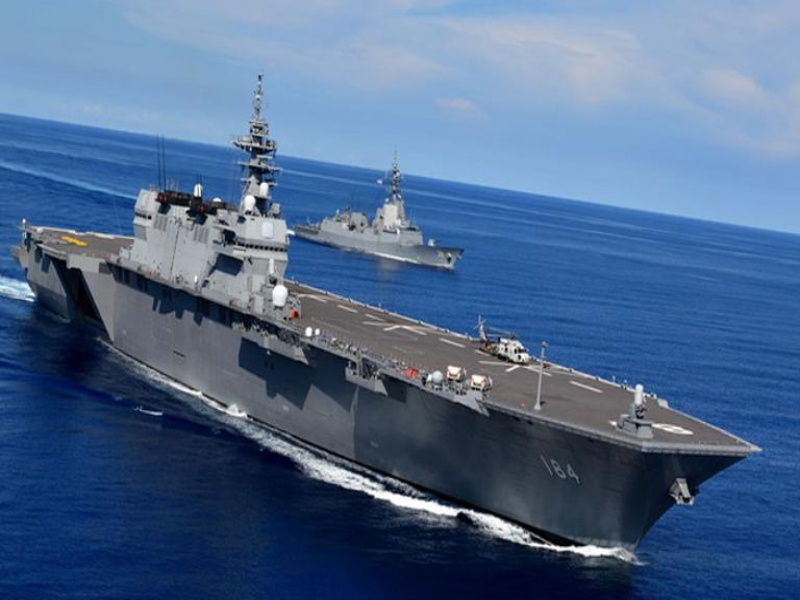carrier: (41, 145, 738, 567)
cruise: (305, 157, 474, 277)
